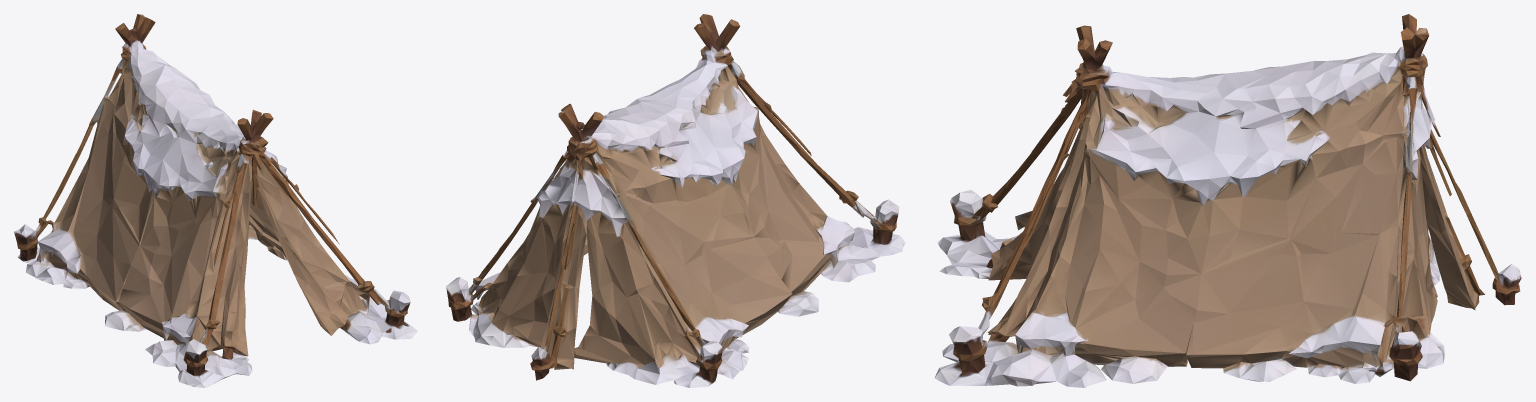
Rendered from tent.glb.
3 views of the same model, side by side, from view 1: azimuth 30°, elevation 25°; view 2: azimuth 150°, elevation 25°; view 3: azimuth 270°, elevation 25° (orthographic). The views are drawn at different scales.
Parts seen in each view (by area): view 1: Tent; view 2: Tent; view 3: Tent.
Boxes of the visible parts, x1,y1,x2,y2 form: Tent: (14, 14, 417, 387); Tent: (446, 14, 905, 387); Tent: (934, 14, 1521, 387).
Size of the model in its own units: 0.6332 by 0.5489 by 1.
Materials: 1 (1 with a texture image).
